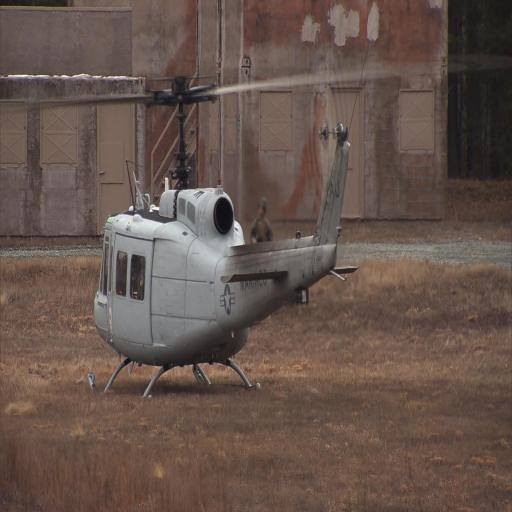helicopter: (1, 73, 406, 396)
